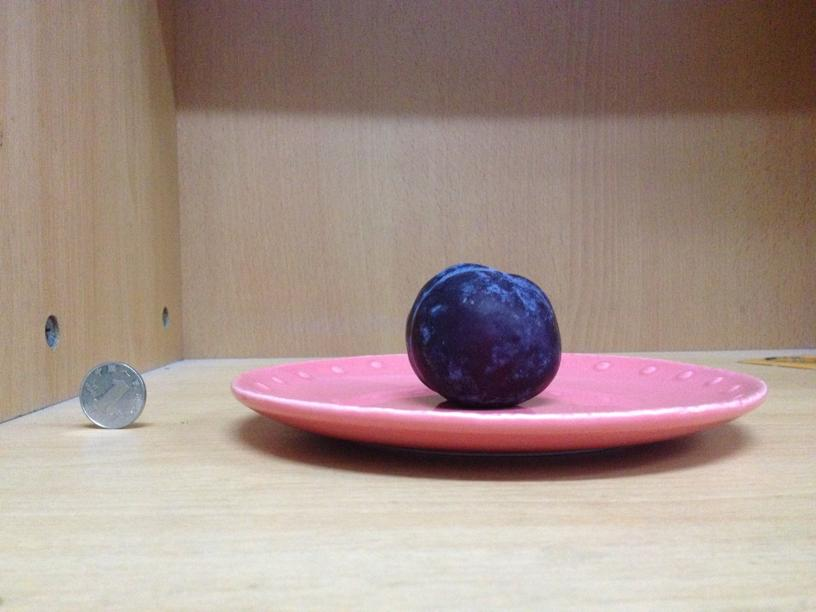coin: (77, 363, 146, 431)
plum: (396, 261, 562, 407)
